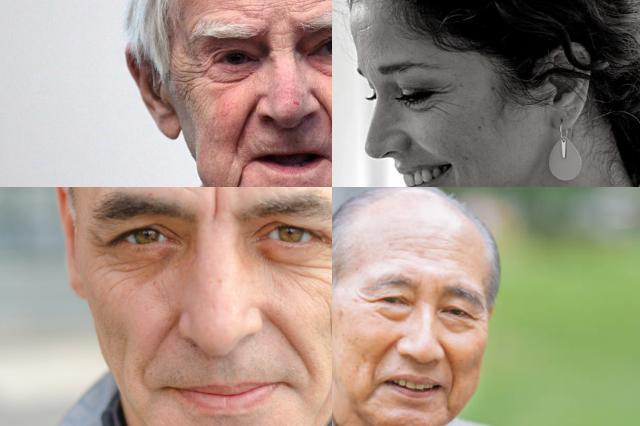crows_feet: (88, 224, 112, 257), (186, 56, 212, 85), (434, 85, 458, 115), (357, 288, 381, 308), (324, 229, 332, 254)
forehead: (396, 226, 444, 246)
frown_line: (205, 187, 224, 216)
gummy_smile: (270, 314, 304, 362), (234, 97, 260, 144), (372, 333, 402, 363), (152, 316, 178, 350), (314, 97, 332, 140), (439, 341, 455, 377)
masseter: (324, 307, 332, 356)
sad_smile: (226, 166, 252, 187)
